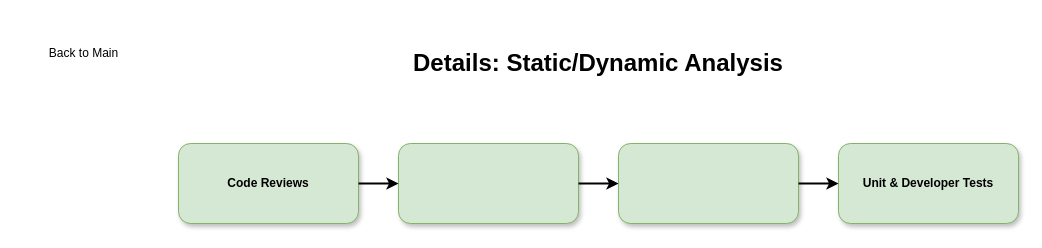
This 1042x248 diagram has some shape labels left out. Each missing label, with the centre of its shape:
Dynamic Analysis: pixel 709 184
Static Analysis: pixel 489 184
